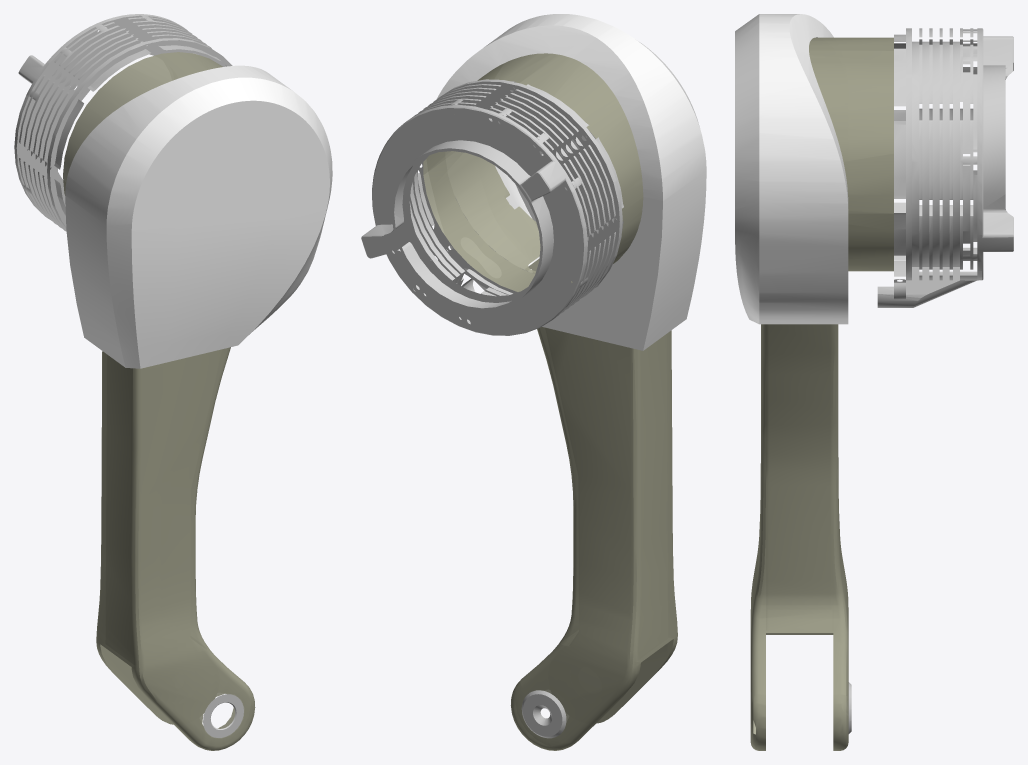
Rendered from R_Thigh.dae.
3 views of the same model, side by side, from view 1: azimuth 30°, elevation 25°; view 2: azimuth 150°, elevation 25°; view 3: azimuth 270°, elevation 25° (orthographic). The views are drawn at different scales.
Parts seen in each view (by area): view 1: solid_R_Thigh (×5); view 2: solid_R_Thigh (×5); view 3: solid_R_Thigh (×4).
Boxes of the visible parts, x1,y1,x2,y2 form: solid_R_Thigh (×5): (14,14,332,750); solid_R_Thigh (×5): (361,14,706,750); solid_R_Thigh (×4): (735,14,1013,750).
Size of the model in its own units: 0.138 by 0.137 by 0.3901.
